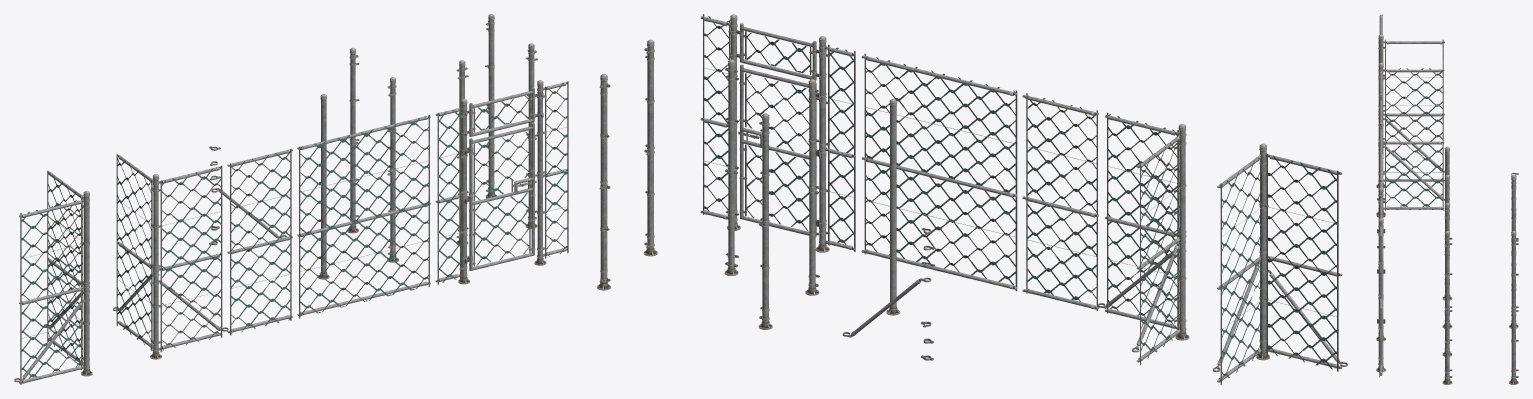
Rendered from modular_chainlink_fence.fbx.
3 views of the same model, side by side, from view 1: azimuth 30°, elevation 25°; view 2: azimuth 150°, elevation 25°; view 3: azimuth 270°, elevation 25° (orthographic). The views are drawn at different scales.
Visible parts, largest first — view 1: modular_chainlink_fence_corner_outer, modular_chainlink_fence_double, modular_chainlink_fence_corner_inner, modular_chainlink_fence_door_frame, modular_chainlink_fence_door_gate, modular_chainlink_fence, modular_chainlink_fence_start_01_corner_02, modular_chainlink_fence_end_02, modular_chainlink_fence_end_01, modular_chainlink_fence_post, modular_chainlink_fence_start_01_corner_01; view 2: modular_chainlink_fence_corner_inner, modular_chainlink_fence_double, modular_chainlink_fence_corner_outer, modular_chainlink_fence_door_frame, modular_chainlink_fence, modular_chainlink_fence_door_gate, modular_chainlink_fence_start_01_corner_02, modular_chainlink_post_middle, modular_chainlink_fence_end_01, modular_chainlink_fence_start_01_corner_01, modular_chainlink_fence_end_02, modular_chainlink_fence_post; view 3: modular_chainlink_fence_corner_outer, modular_chainlink_fence_door_frame, modular_chainlink_fence_corner_inner, modular_chainlink_fence_start_01_corner_01, modular_chainlink_fence_start_01_corner_02, modular_chainlink_fence_end_02, modular_chainlink_fence_double, modular_chainlink_fence_end_01, modular_chainlink_post_middle, modular_chainlink_fence_post.
Part boxes in pixels (x1=…): modular_chainlink_fence_corner_outer: x1=113, y1=154, x2=228, y2=359; modular_chainlink_fence_double: x1=297, y1=115, x2=430, y2=318; modular_chainlink_fence_corner_inner: x1=14, y1=170, x2=92, y2=384; modular_chainlink_fence_door_frame: x1=435, y1=80, x2=568, y2=284; modular_chainlink_fence_door_gate: x1=469, y1=123, x2=535, y2=270; modular_chainlink_fence: x1=227, y1=148, x2=292, y2=335; modular_chainlink_fence_start_01_corner_02: x1=485, y1=14, x2=496, y2=198; modular_chainlink_fence_end_02: x1=347, y1=47, x2=359, y2=233; modular_chainlink_fence_end_01: x1=387, y1=77, x2=398, y2=262; modular_chainlink_fence_post: x1=318, y1=94, x2=329, y2=279; modular_chainlink_fence_start_01_corner_01: x1=525, y1=43, x2=537, y2=228; modular_chainlink_fence_corner_inner: x1=1213, y1=143, x2=1347, y2=384; modular_chainlink_fence_double: x1=861, y1=53, x2=1017, y2=291; modular_chainlink_fence_corner_outer: x1=1097, y1=112, x2=1189, y2=365; modular_chainlink_fence_door_frame: x1=700, y1=14, x2=855, y2=252; modular_chainlink_fence: x1=1022, y1=93, x2=1098, y2=310; modular_chainlink_fence_door_gate: x1=739, y1=64, x2=816, y2=236; modular_chainlink_fence_start_01_corner_02: x1=597, y1=74, x2=610, y2=290; modular_chainlink_post_middle: x1=724, y1=59, x2=738, y2=275; modular_chainlink_fence_end_01: x1=805, y1=79, x2=819, y2=295; modular_chainlink_fence_start_01_corner_01: x1=643, y1=39, x2=657, y2=256; modular_chainlink_fence_end_02: x1=758, y1=113, x2=772, y2=329; modular_chainlink_fence_post: x1=886, y1=98, x2=900, y2=315; modular_chainlink_fence_corner_outer: x1=1376, y1=62, x2=1449, y2=233; modular_chainlink_fence_door_frame: x1=1376, y1=182, x2=1385, y2=377; modular_chainlink_fence_corner_inner: x1=1376, y1=14, x2=1449, y2=188; modular_chainlink_fence_start_01_corner_01: x1=1442, y1=231, x2=1452, y2=384; modular_chainlink_fence_start_01_corner_02: x1=1509, y1=231, x2=1518, y2=384; modular_chainlink_fence_end_02: x1=1509, y1=175, x2=1518, y2=328; modular_chainlink_fence_double: x1=1379, y1=126, x2=1382, y2=183; modular_chainlink_fence_end_01: x1=1442, y1=175, x2=1452, y2=328; modular_chainlink_post_middle: x1=1442, y1=203, x2=1452, y2=356; modular_chainlink_fence_post: x1=1442, y1=146, x2=1452, y2=300.
Size of the model in its own units: 812 by 252 by 215.
